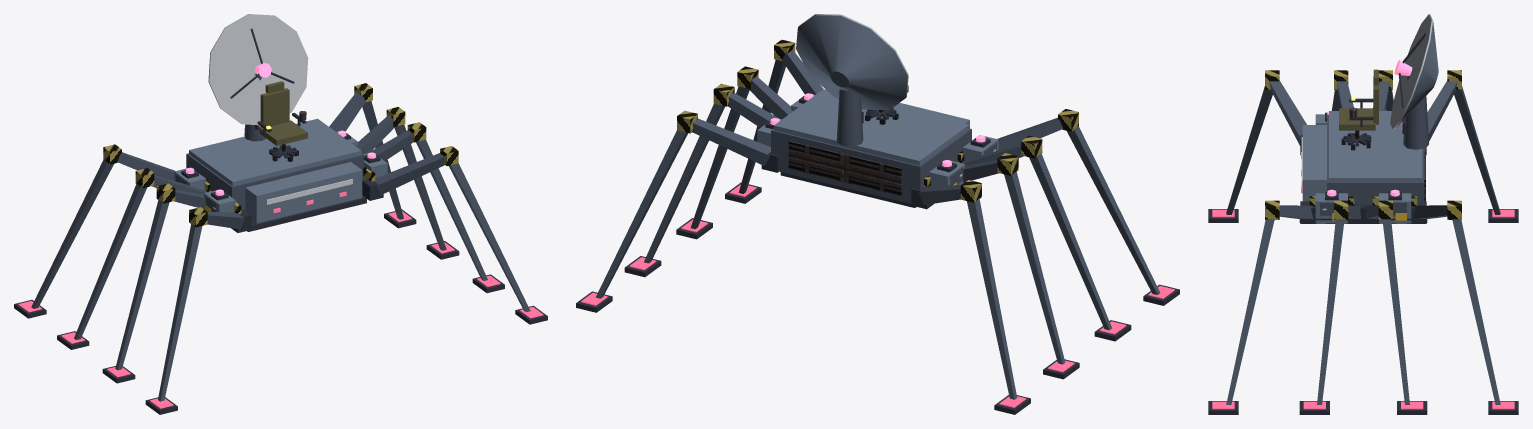
The model's file is hushmaster.glb.
3 renders of one model, left to right at view 1: azimuth 30°, elevation 25°; view 2: azimuth 150°, elevation 25°; view 3: azimuth 270°, elevation 25°, orthographic. The views are drawn at different scales.
Visible parts, largest first — view 1: hull, dish, seat, leg_fr_1_lower, leg_fr_2_lower, leg_br_2_lower, leg_br_1_lower, leg_fl_1_lower, leg_fl_1, leg_fl_2_lower, leg_bl_2_lower, leg_fr_1 (+8 smaller); view 2: hull, dish, leg_br_1_lower, leg_br_2_lower, leg_fr_2_lower, leg_fr_1_lower, leg_bl_1_lower, leg_bl_1, leg_bl_2_lower, leg_fl_2_lower, dish_base, leg_br_1 (+8 smaller); view 3: hull, dish, leg_fl_1_lower, leg_bl_1_lower, leg_fl_2_lower, leg_bl_2_lower, seat, leg_fr_1_lower, leg_br_1_lower, leg_fr_1, dish_base, leg_br_1 (+8 smaller).
Part boxes in pixels (box(x1,y1,x2,y2)): hull: box(186, 118, 375, 231); dish: box(208, 14, 308, 125); seat: box(257, 81, 307, 161); leg_fr_1_lower: box(145, 224, 202, 414); leg_fr_2_lower: box(102, 199, 169, 383); leg_br_2_lower: box(57, 183, 147, 349); leg_br_1_lower: box(14, 159, 113, 318); leg_fl_1_lower: box(449, 163, 547, 324); leg_fl_1: box(362, 146, 458, 200); leg_fl_2_lower: box(416, 140, 504, 293); leg_bl_2_lower: box(394, 124, 459, 259); leg_fr_1: box(189, 207, 251, 232); hull: box(771, 89, 971, 207); dish: box(796, 14, 908, 110); leg_br_1_lower: box(967, 198, 1030, 414); leg_br_2_lower: box(1004, 171, 1079, 379); leg_fr_2_lower: box(1029, 153, 1131, 341); leg_fr_1_lower: box(1066, 126, 1179, 305); leg_bl_1_lower: box(576, 130, 688, 312); leg_bl_1: box(677, 110, 778, 172); leg_bl_2_lower: box(624, 103, 725, 277); leg_fl_2_lower: box(676, 86, 749, 239); dish_base: box(836, 89, 863, 146); leg_br_1: box(911, 180, 981, 209); hull: box(1301, 111, 1425, 223); dish: box(1390, 14, 1438, 129); leg_fl_1_lower: box(1208, 219, 1274, 414); leg_bl_1_lower: box(1452, 219, 1518, 414); leg_fl_2_lower: box(1299, 219, 1344, 414); leg_bl_2_lower: box(1382, 219, 1427, 414); seat: box(1339, 69, 1378, 150); leg_fr_1_lower: box(1208, 86, 1272, 222); leg_br_1_lower: box(1454, 86, 1518, 222); leg_fr_1: box(1265, 70, 1306, 155); dish_base: box(1401, 76, 1428, 149); leg_br_1: box(1426, 70, 1461, 155).
Bounding box in the file's own units: 11.75 × 8.04 × 7.65.
Materials: 14 (3 with a texture image).
